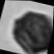correct: (4, 6, 54, 54)
